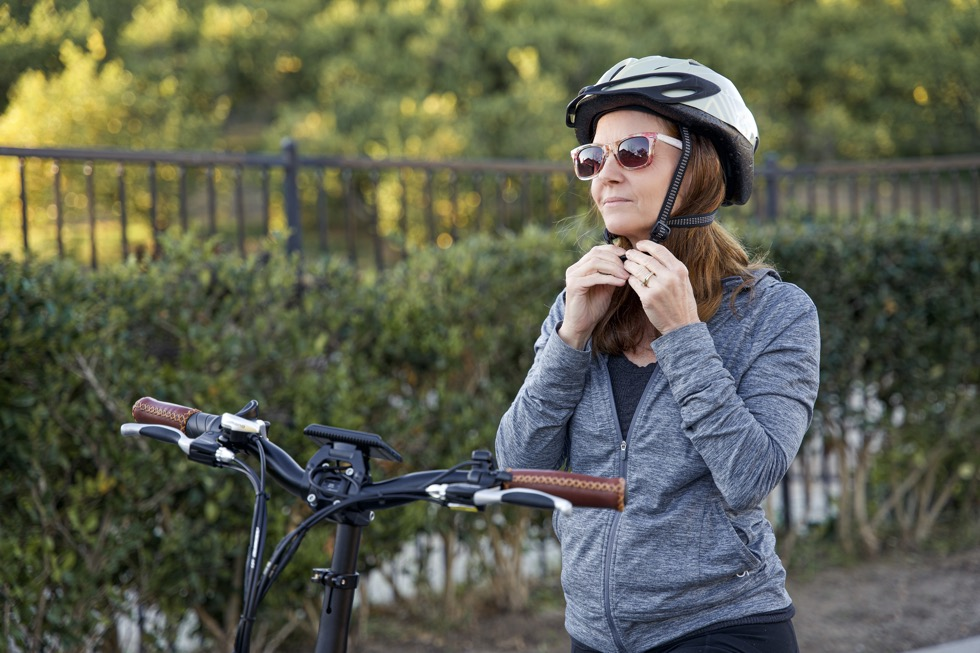helmet: (565, 55, 760, 234)
